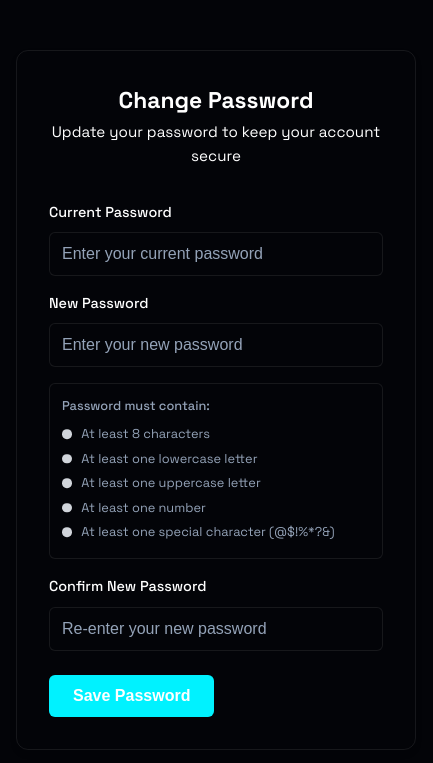
Scenario: ChangePasswordForm › Error handling › should handle API errors
Type "OldPass123!" into the password field labelled "Current Password" at (216, 254), box x1=49 y1=232 x2=383 y2=276
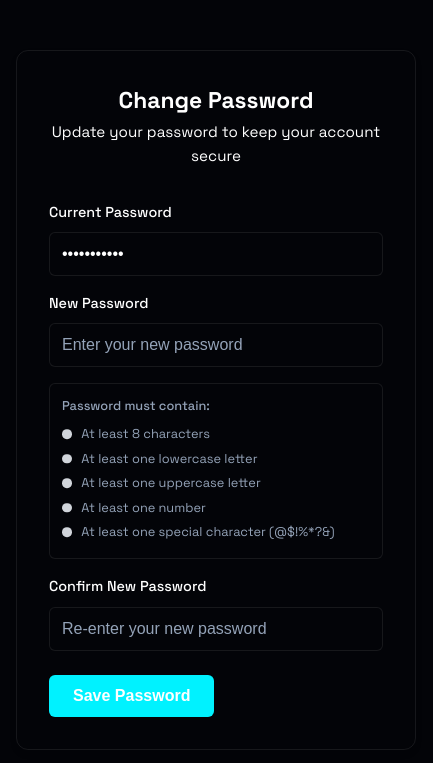
Type "NewPass123!" into the password field labelled "New Password" at (216, 345), box x1=49 y1=323 x2=383 y2=367
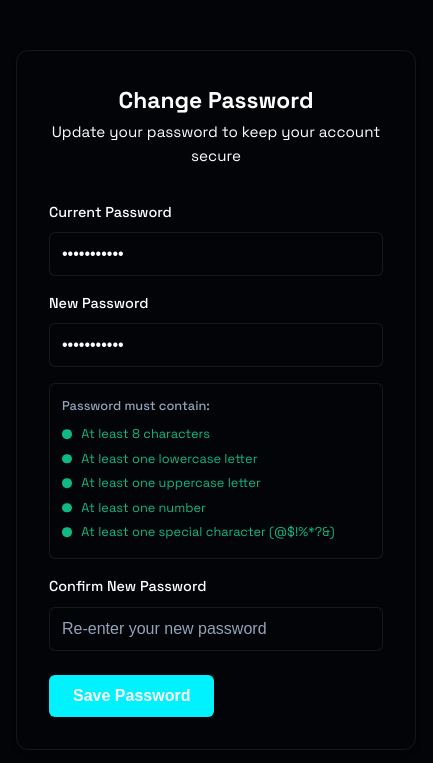
Type "NewPass123!" into the password field labelled "Confirm New Password" at (216, 628), box x1=49 y1=606 x2=383 y2=650
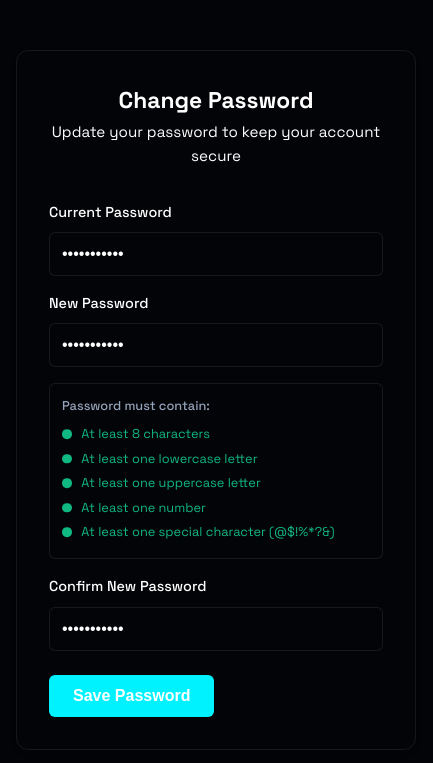
Click the button "Save Password" at (132, 696), box x1=49 y1=674 x2=214 y2=716
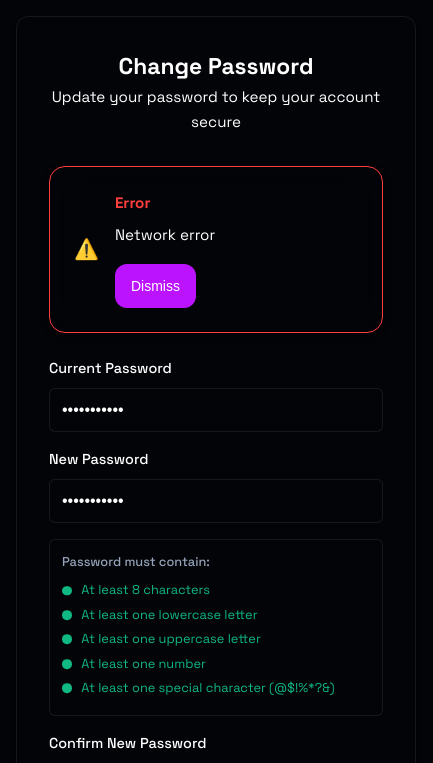
Now the text "Network error" is shown, box x1=115 y1=225 x2=215 y2=244
